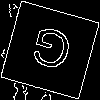G: (25, 24, 76, 81)
